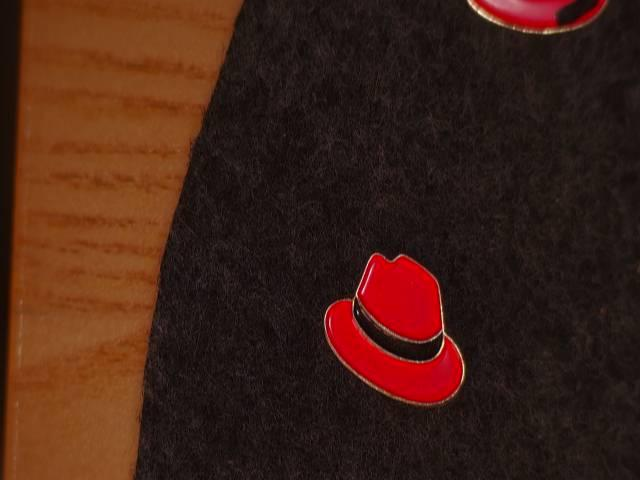Red-Hat: (303, 229, 481, 428), (439, 0, 626, 45)
Scratch: (542, 0, 617, 33)
